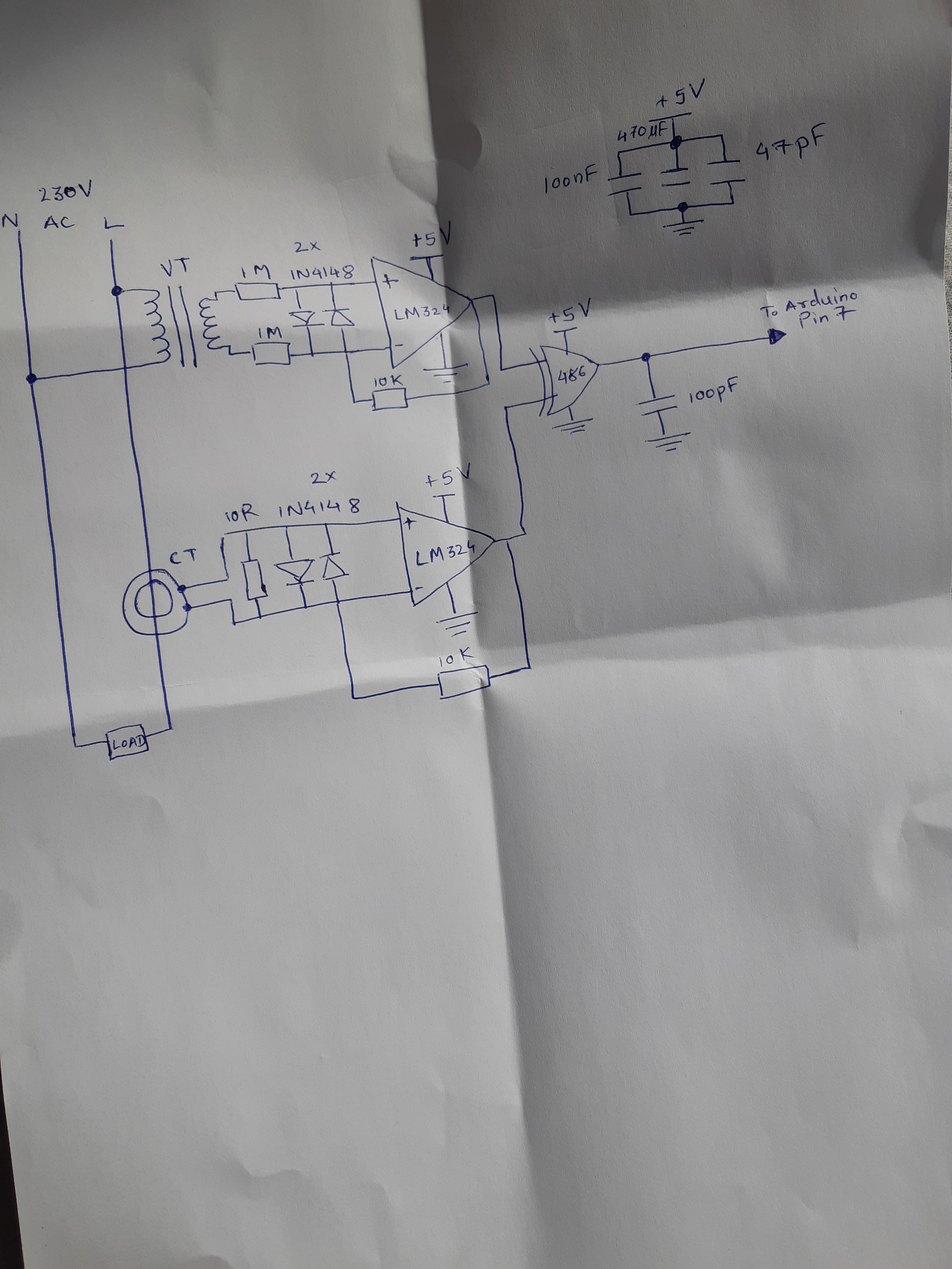capacitor.unpolarized: (706, 154, 747, 187), (635, 392, 681, 417), (605, 171, 645, 198), (657, 164, 694, 190)
crossover: (119, 363, 130, 373)
diode: (273, 557, 318, 587), (315, 550, 350, 584), (286, 307, 326, 329), (322, 306, 356, 330)
gnd: (434, 609, 480, 641), (640, 430, 694, 456), (550, 416, 597, 438), (662, 217, 705, 238), (421, 364, 468, 381)
inductor: (119, 566, 191, 637), (144, 288, 175, 365), (194, 292, 220, 358)
junction: (668, 135, 685, 150), (675, 200, 693, 214), (110, 283, 125, 298), (25, 370, 40, 385), (640, 350, 653, 363), (70, 739, 82, 752), (331, 596, 344, 608), (518, 527, 530, 539), (217, 531, 229, 543), (612, 148, 625, 159), (726, 197, 738, 208), (523, 661, 534, 673), (482, 375, 494, 386), (307, 348, 318, 359), (500, 402, 511, 413), (255, 611, 266, 622), (716, 131, 727, 142), (222, 573, 233, 584), (164, 723, 175, 734), (340, 346, 351, 357), (348, 397, 359, 407), (625, 209, 636, 219), (182, 603, 193, 613), (229, 618, 239, 628), (301, 602, 311, 612), (497, 364, 507, 374), (177, 583, 187, 593), (289, 284, 301, 292), (226, 595, 236, 604), (349, 693, 359, 702), (280, 523, 292, 530), (489, 291, 498, 300), (243, 528, 253, 536), (210, 287, 218, 296), (326, 282, 336, 289), (225, 349, 234, 356), (503, 537, 512, 543), (320, 521, 328, 527)
magnetic: (165, 286, 201, 368)
operational_amplifier: (368, 251, 477, 371), (393, 497, 497, 611)
resistor: (435, 662, 492, 701), (103, 722, 152, 761), (248, 338, 295, 367), (240, 558, 269, 603), (369, 385, 411, 413), (234, 280, 282, 304)
terminal: (766, 326, 788, 348), (102, 236, 119, 245), (13, 225, 26, 235)
text: (757, 285, 860, 319), (754, 121, 828, 164), (537, 161, 599, 196), (410, 539, 479, 569), (276, 496, 362, 520), (35, 177, 97, 207), (653, 77, 707, 110), (686, 375, 739, 406), (546, 294, 594, 328), (796, 305, 859, 329), (611, 118, 671, 143), (411, 218, 453, 251), (423, 461, 473, 488), (393, 300, 454, 322), (288, 262, 355, 282), (436, 645, 478, 668), (224, 501, 261, 523), (110, 732, 147, 752), (158, 255, 190, 278), (238, 262, 272, 283), (42, 213, 76, 232), (168, 546, 198, 567), (555, 365, 590, 383), (370, 371, 404, 389), (309, 469, 338, 487), (254, 324, 286, 340), (293, 239, 323, 256), (1, 210, 22, 230), (378, 271, 399, 291), (101, 215, 126, 231), (404, 514, 417, 532), (391, 339, 405, 351), (413, 582, 425, 594)
transformer: (142, 283, 224, 370)
vss: (644, 110, 693, 124), (408, 251, 446, 262), (552, 326, 585, 335), (432, 493, 456, 499)
xor: (525, 344, 605, 419)
